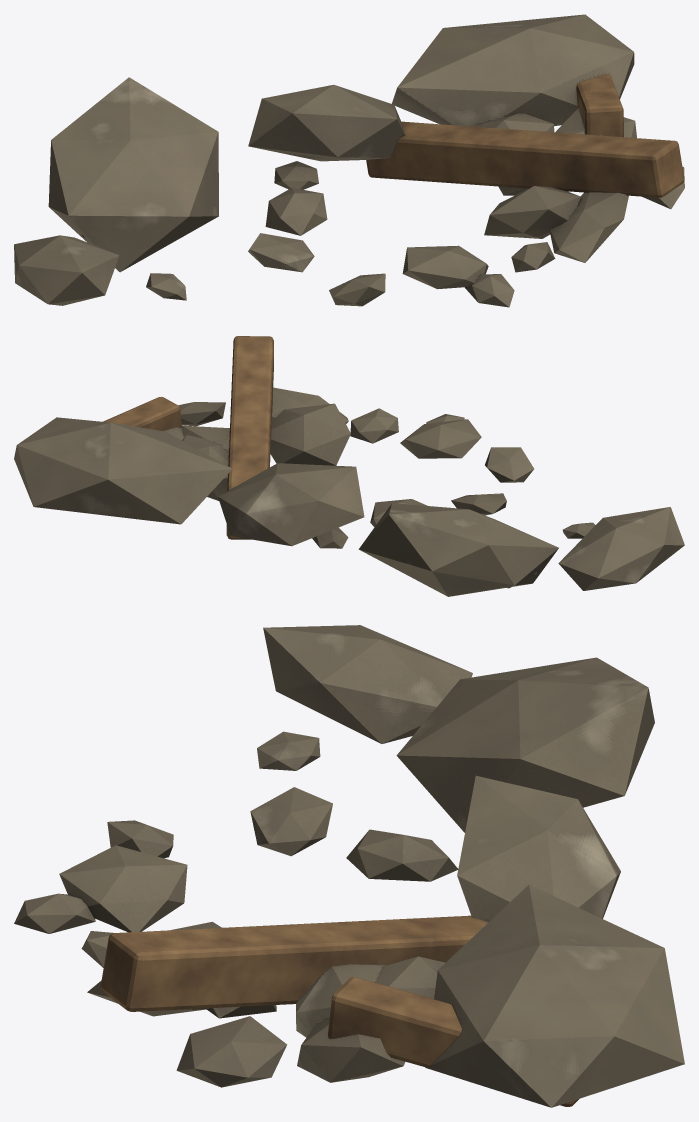
Rendered from vault_tell_mine.glb.
3 renders of one model, top to bottom at view 1: azimuth 30°, elevation 25°; view 2: azimuth 150°, elevation 25°; view 3: azimuth 270°, elevation 25°, orthographic. The views are drawn at different scales.
Parts seen in each view (by area): view 1: vault_tell_mine.001; view 2: vault_tell_mine.001; view 3: vault_tell_mine.001.
Part boxes in pixels (x1=…): vault_tell_mine.001: x1=14, y1=14, x2=684, y2=307; vault_tell_mine.001: x1=14, y1=336, x2=684, y2=596; vault_tell_mine.001: x1=14, y1=625, x2=684, y2=1107.
Bounding box in the file's own units: 2.03 × 0.3285 × 1.25.
Materials: 2 (2 with a texture image).
